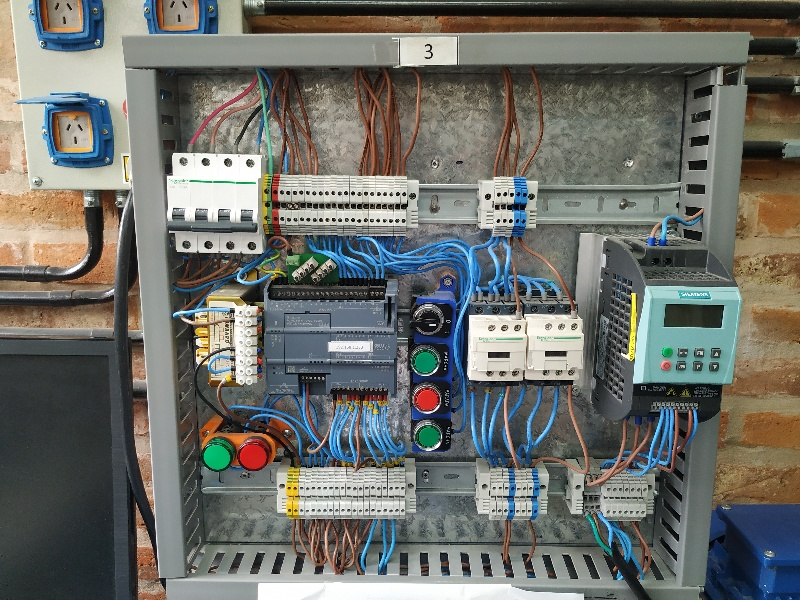Tablero 3: (146, 51, 742, 595)
